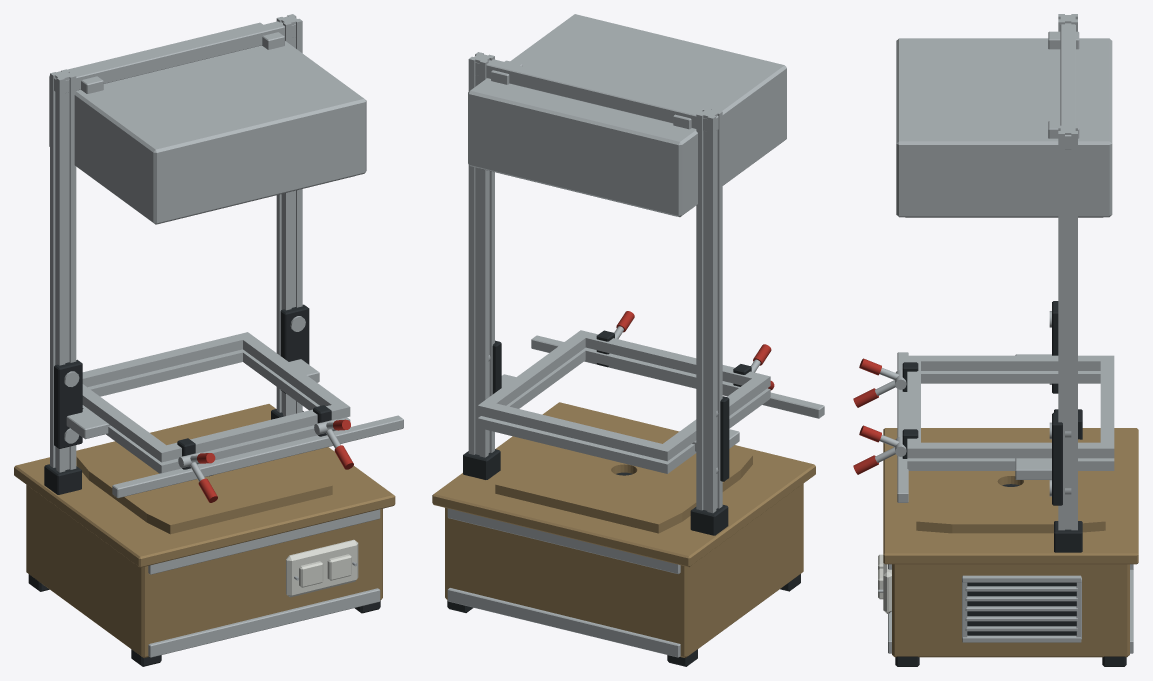
3 renders of one model, left to right at view 1: azimuth 30°, elevation 25°; view 2: azimuth 150°, elevation 25°; view 3: azimuth 270°, elevation 25°, orthographic.
Parts seen in each view (by area): view 1: Broad closed overhead heater hood, Closed self-contained lower cabinet, Top cabinet work surface, Wide platen with actual central circular opening, Upper raised sheet clamp frame, Tall profiled guide column -1, Lower raised sheet clamp frame, Tall profiled guide column 1, Top column crossmember, Front travelling crossrail, Cabinet transverse rail (-0.266, 0.045), Cabinet transverse rail (-0.266, 0.255) (+5 smaller); view 2: Broad closed overhead heater hood, Closed self-contained lower cabinet, Top cabinet work surface, Wide platen with actual central circular opening, Tall profiled guide column -1, Upper raised sheet clamp frame, Tall profiled guide column 1, Lower raised sheet clamp frame, Top column crossmember, Cabinet transverse rail (0.266, 0.045), Cabinet transverse rail (0.266, 0.255), Front travelling crossrail (+3 smaller); view 3: Broad closed overhead heater hood, Top cabinet work surface, Closed self-contained lower cabinet, Wide platen with actual central circular opening, Upper raised sheet clamp frame, Tall profiled guide column 1, Lower raised sheet clamp frame, Side vent dark backing, Top column crossmember, Front travelling crossrail, Original moving side carriage 1, Vent perimeter horizontal 0.23 (+9 smaller).
Boxes of the visible parts, x1,y1,x2,y2 form: Broad closed overhead heater hood: (49, 22, 366, 224); Closed self-contained lower cabinet: (26, 485, 382, 657); Top cabinet work surface: (14, 404, 395, 567); Wide platen with actual central circular opening: (76, 417, 332, 534); Upper raised sheet clamp frame: (82, 332, 350, 462); Tall profiled guide column -1: (50, 69, 76, 472); Lower raised sheet clamp frame: (82, 349, 350, 473); Tall profiled guide column 1: (276, 14, 302, 416); Top column crossmember: (54, 21, 295, 92); Front travelling crossrail: (112, 415, 403, 498); Cabinet transverse rail (-0.266, 0.045): (148, 588, 380, 657); Cabinet transverse rail (-0.266, 0.255): (148, 509, 380, 574); Broad closed overhead heater hood: (468, 14, 786, 217); Closed self-contained lower cabinet: (445, 483, 803, 657); Top cabinet work surface: (432, 402, 815, 566); Wide platen with actual central circular opening: (495, 415, 752, 533); Tall profiled guide column -1: (696, 107, 722, 513); Upper raised sheet clamp frame: (477, 330, 770, 461); Tall profiled guide column 1: (468, 52, 494, 457); Lower raised sheet clamp frame: (477, 347, 770, 473); Top column crossmember: (475, 59, 718, 131); Cabinet transverse rail (0.266, 0.045): (447, 588, 680, 657); Cabinet transverse rail (0.266, 0.255): (447, 508, 680, 574); Front travelling crossrail: (531, 335, 824, 418); Broad closed overhead heater hood: (896, 38, 1112, 217); Top cabinet work surface: (883, 428, 1138, 564); Closed self-contained lower cabinet: (892, 564, 1129, 657); Wide platen with actual central circular opening: (916, 438, 1105, 533); Upper raised sheet clamp frame: (907, 355, 1114, 458); Tall profiled guide column 1: (1058, 125, 1077, 530); Lower raised sheet clamp frame: (907, 371, 1114, 470); Side vent dark backing: (967, 582, 1076, 635); Top column crossmember: (1060, 23, 1075, 149); Front travelling crossrail: (897, 352, 908, 502); Original moving side carriage 1: (1052, 412, 1062, 505); Vent perimeter horizontal 0.23: (962, 575, 1081, 582).
Bounding box in the file's own units: 76 × 134 × 64.78.
